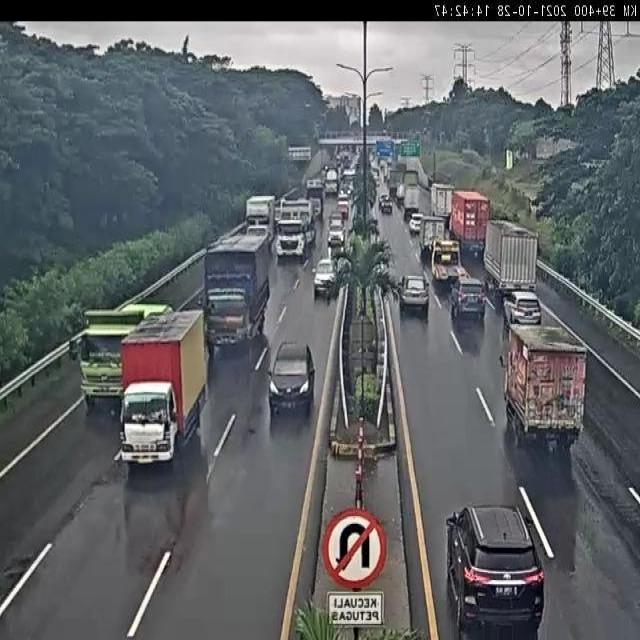Car: (444, 504, 545, 638), (267, 339, 316, 416), (450, 275, 486, 325), (500, 289, 544, 324), (397, 274, 429, 317), (312, 256, 338, 299), (327, 213, 345, 250)
Truck: (117, 312, 209, 464), (503, 324, 587, 452), (74, 305, 172, 412), (205, 229, 273, 355), (483, 220, 538, 308), (274, 198, 316, 264), (450, 189, 490, 255), (431, 237, 469, 286), (417, 215, 448, 265), (246, 194, 275, 240), (430, 182, 454, 229), (403, 186, 421, 222)
